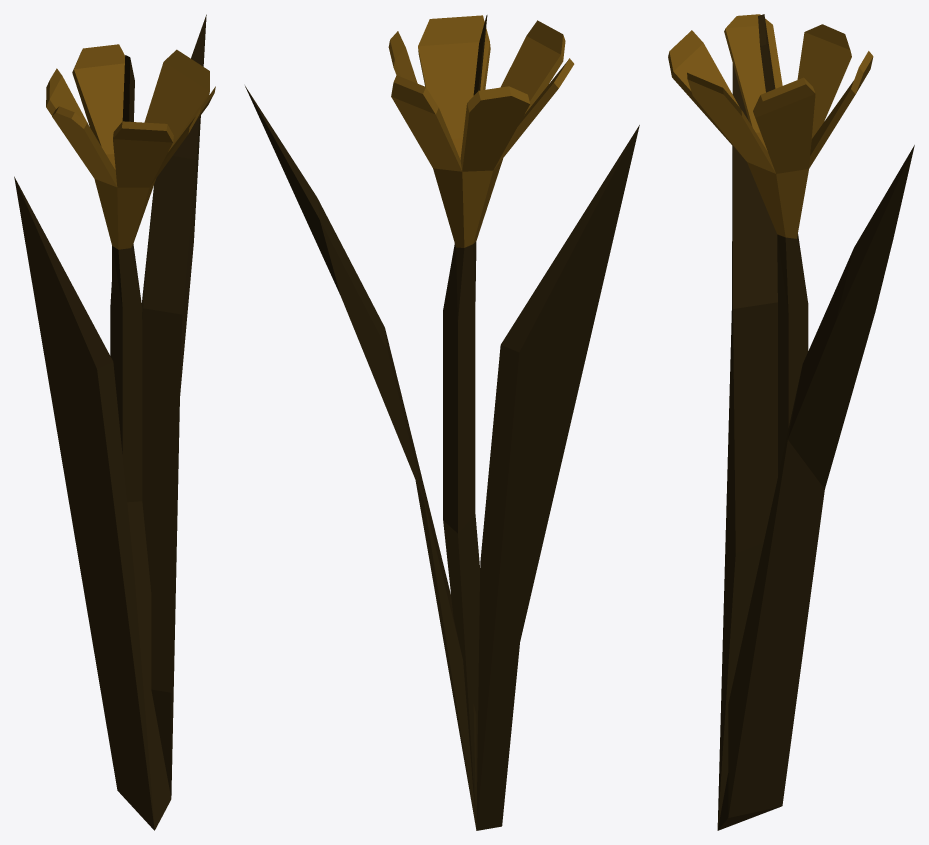
Rendered from flowerKrokus03.fbx.
3 renders of one model, left to right at view 1: azimuth 30°, elevation 25°; view 2: azimuth 150°, elevation 25°; view 3: azimuth 270°, elevation 25°, orthographic. The views are drawn at different scales.
Parts seen in each view (by area): view 1: Cylinder; view 2: Cylinder; view 3: Cylinder.
Part boxes in pixels (x1=…): Cylinder: x1=14, y1=14, x2=215, y2=830; Cylinder: x1=245, y1=15, x2=639, y2=830; Cylinder: x1=668, y1=14, x2=914, y2=830.
Bounding box in the file's own units: 0.1294 × 0.339 × 0.0933.
